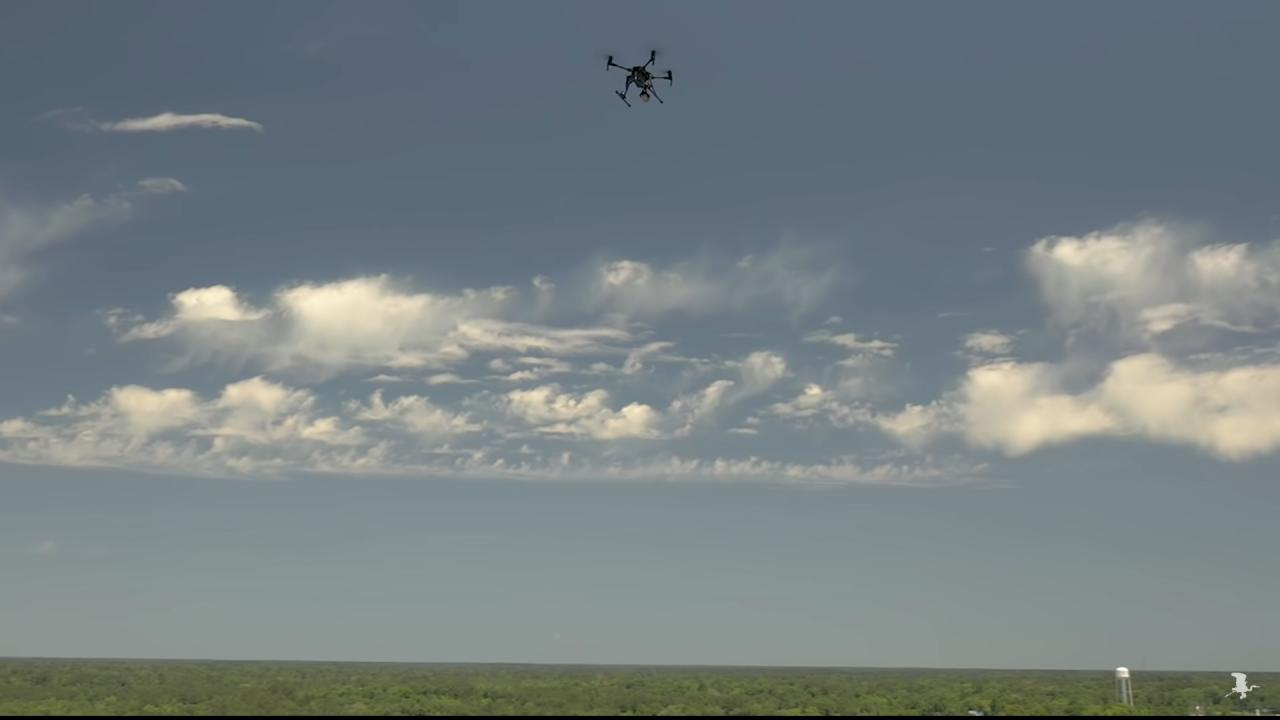Drone: (593, 39, 684, 117)
